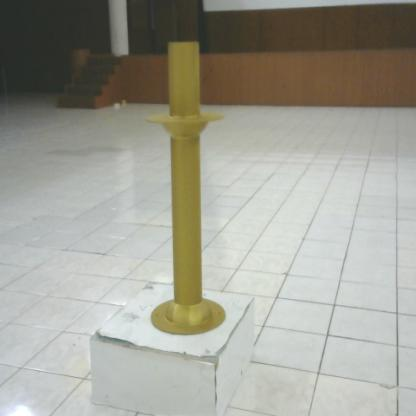pole: (141, 33, 239, 346)
